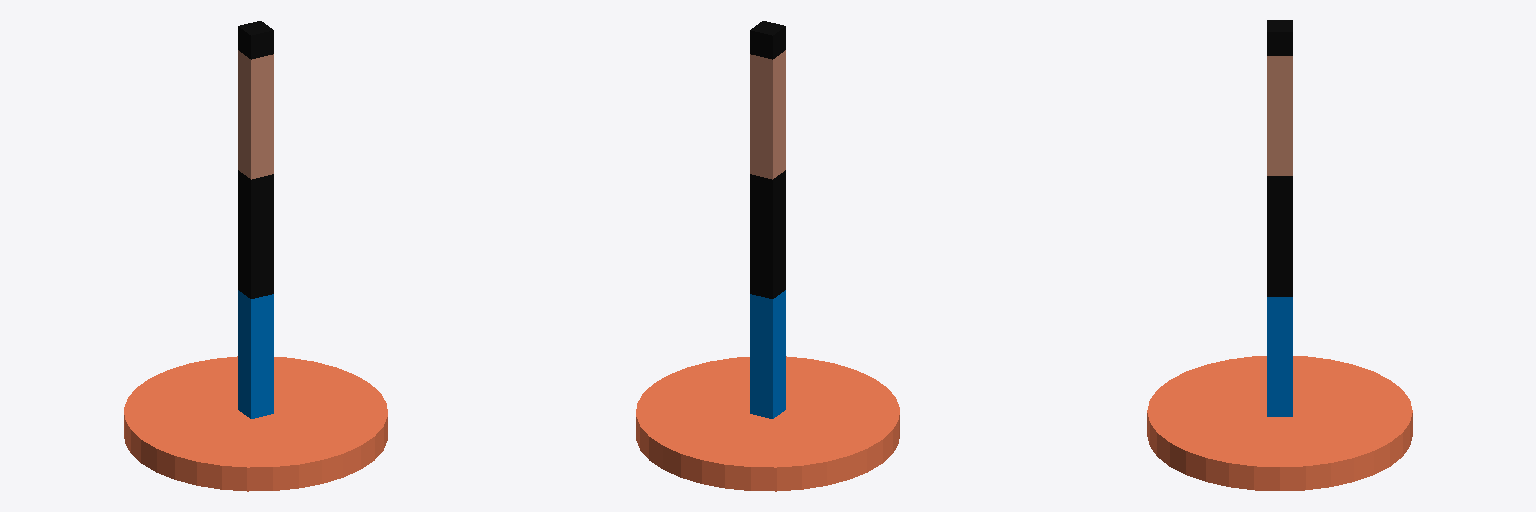
The robot description file, URDF, robot "odev":
<?xml version="1.0"?>
<robot name="odev">


  <material name="siyah">
    <color rgba="0.07450980392 0.07450980392 0.07450980392 1.0" />
  </material>
  <material name="mavi">
    <color rgba="0 0.47843137254 0.8 1.0" />
  </material>
  <material name="ozel_renk">
    <color rgba="0.8 0.56470588235 0.46666666666 1.0" />
  </material>
  <material name="kirmizi">
    <color rgba="0.98823529411 0.52156862745 0.34901960784 1.0" />
  </material>

  <link name="base">
    <visual>
      <geometry>
        <cylinder radius="1" length="0.2" />
      </geometry>
      <origin xyz="0.0 0.0 0.1"/>
      <material name="kirmizi" />
    </visual>
    <collision>
      <geometry>
        <cylinder radius="1" length="0.2" />
      </geometry>
      <origin xyz="0.0 0.0 0.1"/>
    </collision>
  </link>

  <link name="link1">
    <visual>
      <geometry>
        <box size="0.2 0.2 1" />
      </geometry>
      <origin xyz="0 0 0.5"/>
      <material name="mavi" />
    </visual>
    <collision>
      <geometry>
        <box size="0.2 0.2 1" />
      </geometry>
      <origin xyz="0 0 0.5"/>
    </collision>
  </link>

  <joint name="j1" type="revolute">
    <parent link="base" />
    <child link="link1" />
    <limit effort="30" velocity="1.0" lower="0" upper="1.5408" />
    <origin xyz="0 0 0.2" rpy="0 0 0" />
    <axis xyz="1 0 0" />
  </joint>

 
  <link name="link2">
    <visual>
      <geometry>
        <box size="0.2 0.2 1" />
      </geometry>
      <origin xyz="0 0 0.5" />
      <material name="siyah" />
    </visual>
    <collision>
      <geometry>
        <box size="0.2 0.2 1" />
      </geometry>
      <origin xyz="0 0 0.5" />
    </collision>
  </link>

  <joint name="j2" type="revolute">
    <parent link="link1" />
    <child link="link2" />
    <limit effort="30" velocity="1.0" lower="0" upper="1.5408" />
    <origin xyz="0 0 1" rpy="0 0 0" />
    <axis xyz="1 0 0" />
  </joint>

  <link name="link3">
    <visual>
      <geometry>
        <box size="0.2 0.2 1" />
      </geometry>
      <origin xyz="0 0 0.5" />
      <material name="ozel_renk" />
    </visual>
    <collision>
      <geometry>
        <box size="0.2 0.2 1" />
      </geometry>
      <origin xyz="0 0 0.5" />
    </collision>
  </link>

  <joint name="j3" type="revolute">
    <parent link="link2" />
    <child link="link3" />
    <limit effort="30" velocity="1.0" lower="0" upper="1.5408" />
    <origin xyz="0 0 1" rpy="0 0 0" />
    <axis xyz="1 0 0" />
  </joint>

  <link name="end">
    <visual>
      <geometry>
        <box size="0.2 0.2 0.2" />
      </geometry>
      <origin xyz="0 0 0.1" />
      <material name="siyah" />
    </visual>
    <collision>
      <geometry>
        <box size="0.2 0.2 0.2" />
      </geometry>
      <origin xyz="0 0 0.1" />
    </collision>
  </link>

  <joint name="j4" type="fixed">
    <parent link="link3" />
    <child link="end" />
    <limit effort="30" velocity="1.0" lower="0" upper="1.5408" />
    <origin xyz="0 0 1" rpy="0 0 0" />
    <axis xyz="1 0 0" />
  </joint>
  

</robot>

--- What the picture shows (computed from the rendered views, not written in the file) ---
The picture shows the robot from 3 angles, left to right: view 1: azimuth 30°, elevation 25°; view 2: azimuth 150°, elevation 25°; view 3: azimuth 270°, elevation 25°; orthographic projection.
Robot: odev — 5 links, 4 joints (3 revolute, 1 fixed); root link base; default pose: all joints at 0.
Links seen in each view (by area): view 1: base, link1, link3, link2, end; view 2: base, link1, link3, link2, end; view 3: base, link2, link1, link3, end.
Link boxes in pixels (x1,y1,x2,y2): base: (124,356,387,491); link1: (238,290,273,418); link3: (238,50,273,179); link2: (238,170,273,298); end: (238,21,273,59); base: (636,356,899,491); link1: (750,290,785,418); link3: (750,50,785,179); link2: (750,170,785,298); end: (750,21,785,59); base: (1147,356,1412,490); link2: (1267,176,1292,296); link1: (1267,297,1292,416); link3: (1267,56,1292,175); end: (1267,20,1292,55).
Bounding box of the posed robot: 2 × 2 × 3.4 m (x, y, z).
Geometry: primitives only (box / cylinder / sphere), no mesh files.